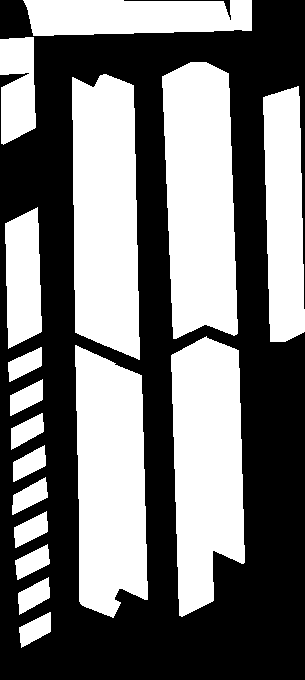parkingspot: (93, 74, 139, 359), (75, 345, 120, 617), (193, 62, 237, 335), (162, 62, 205, 338), (171, 336, 213, 616), (72, 77, 113, 345), (263, 86, 304, 341), (104, 363, 147, 599), (205, 337, 244, 563), (23, 0, 233, 35), (5, 207, 41, 348), (1, 71, 35, 144), (12, 477, 47, 514), (0, 37, 33, 74), (15, 544, 49, 579), (14, 511, 47, 547), (10, 379, 42, 415), (11, 413, 43, 449), (13, 445, 45, 481), (18, 577, 49, 614), (8, 347, 41, 381), (19, 612, 50, 647), (230, 0, 251, 30)
